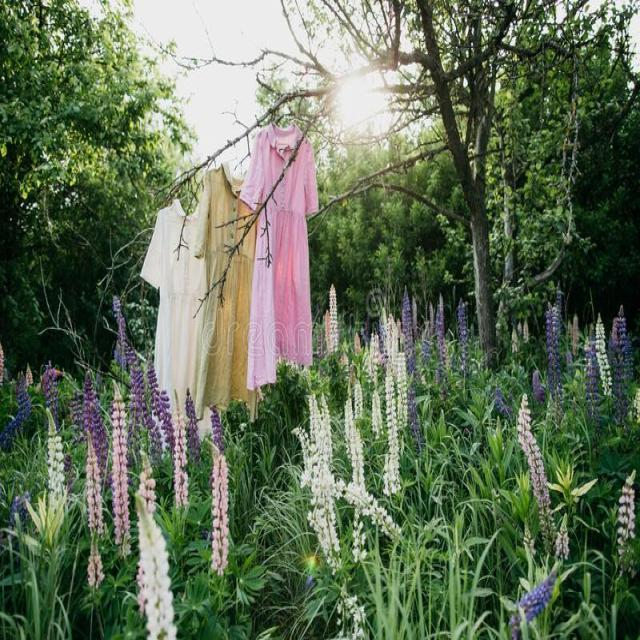clothes: (146, 186, 336, 400)
